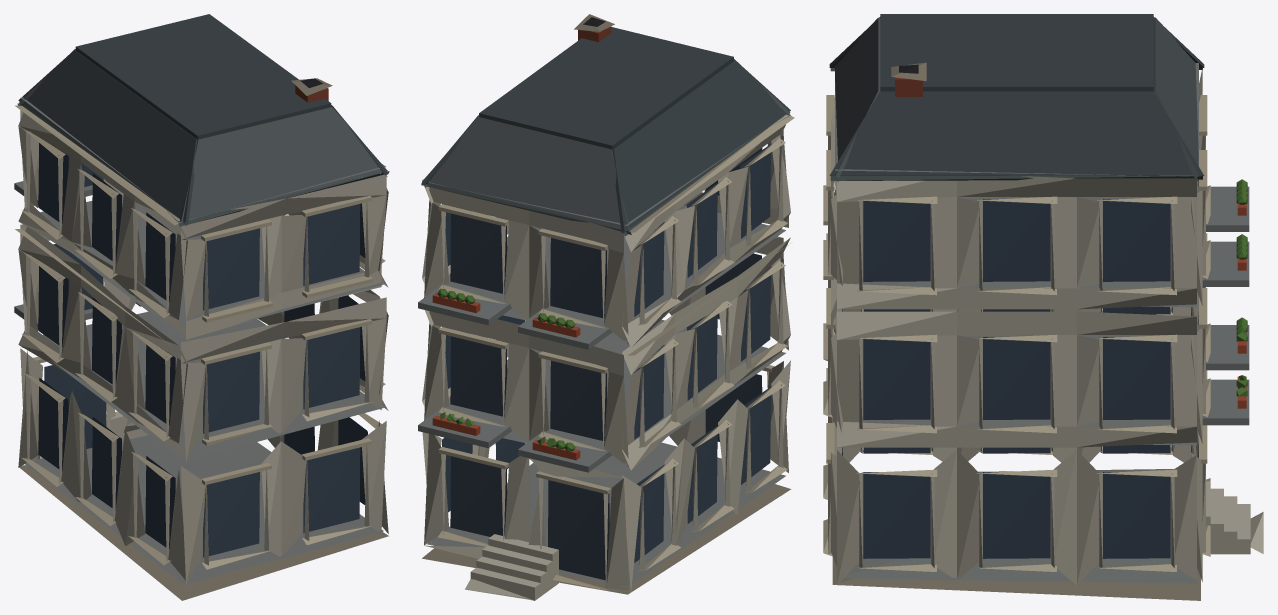
File: house_town.glb
3 renders of one model, left to right at view 1: azimuth 30°, elevation 25°; view 2: azimuth 150°, elevation 25°; view 3: azimuth 270°, elevation 25°, orthographic. The views are drawn at different scales.
Bounding box in the file's own units: 3.6 × 7.03 × 5.52.
